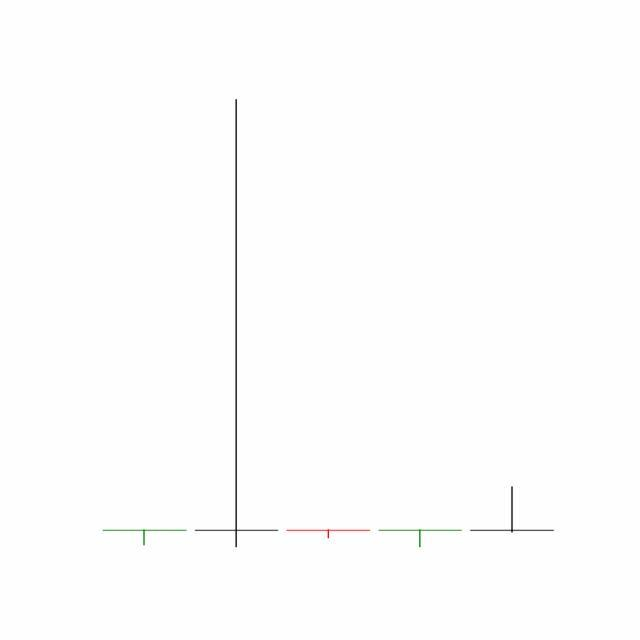Gravestone Doji: (466, 486, 559, 535)
